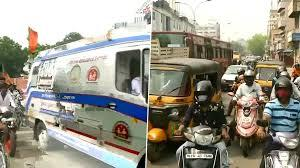ER: (27, 23, 145, 167)
